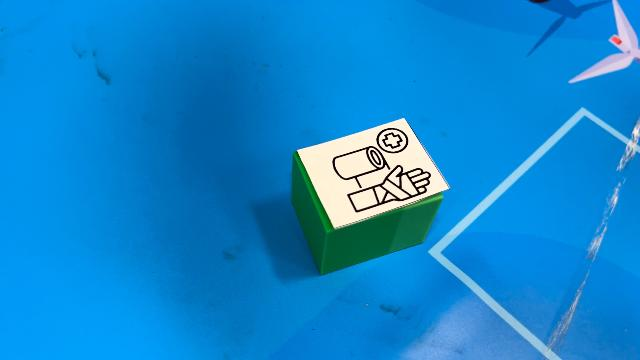bandage: (290, 117, 450, 275)
